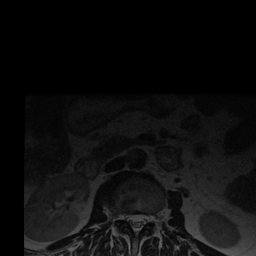CCS_normal: (133, 205, 141, 241)
LFS_normal: (149, 205, 156, 230)
LLS_normal: (141, 205, 149, 231)
RFS_normal: (116, 204, 125, 226)
RLS_normal: (125, 205, 133, 230)
